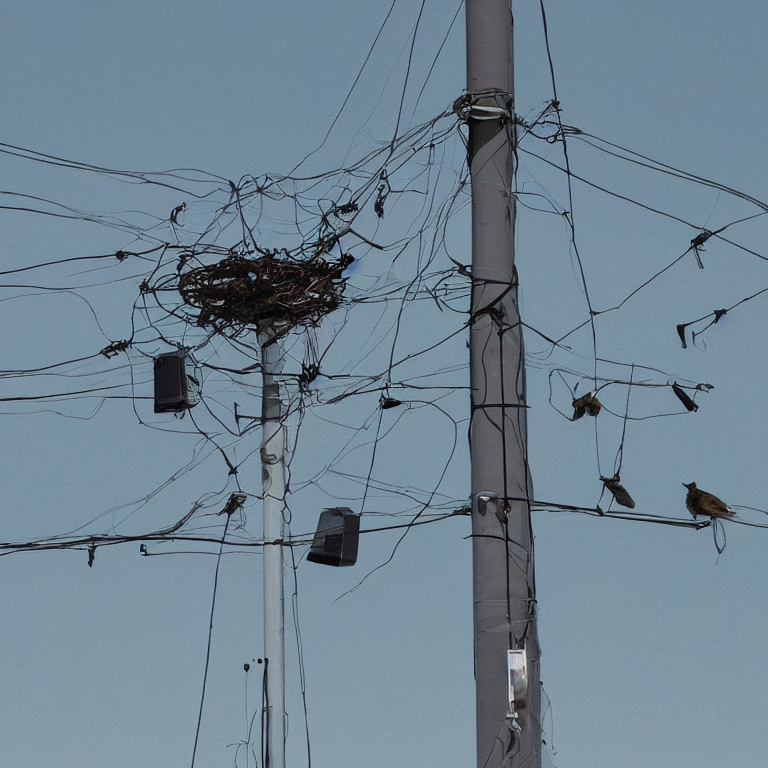nest: (180, 253, 348, 329)
